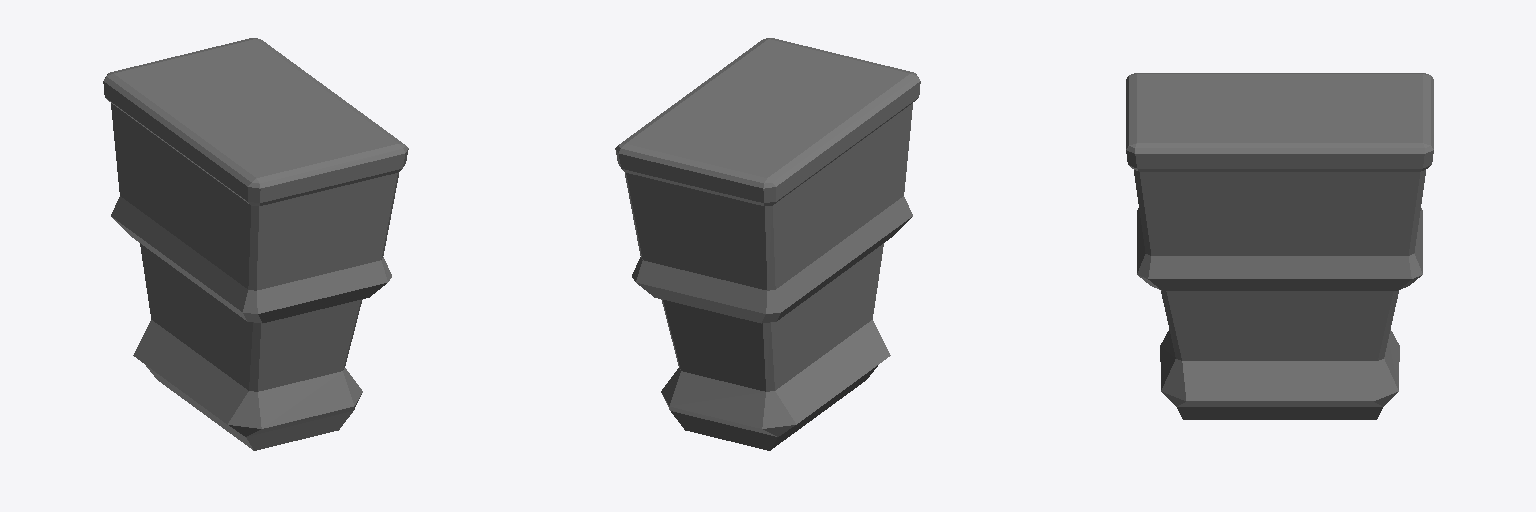
Rendered from chest.obj.
3 renders of one model, left to right at view 1: azimuth 30°, elevation 25°; view 2: azimuth 150°, elevation 25°; view 3: azimuth 270°, elevation 25°, orthographic.
Parts seen in each view (by area): view 1: pCube2; view 2: pCube2; view 3: pCube2.
Part boxes in pixels (x1,y1,x2,y2): pCube2: (103, 38, 408, 450); pCube2: (615, 38, 920, 450); pCube2: (1126, 73, 1433, 419).
Bounding box in the file's own units: 0.321 × 0.5623 × 0.5327.